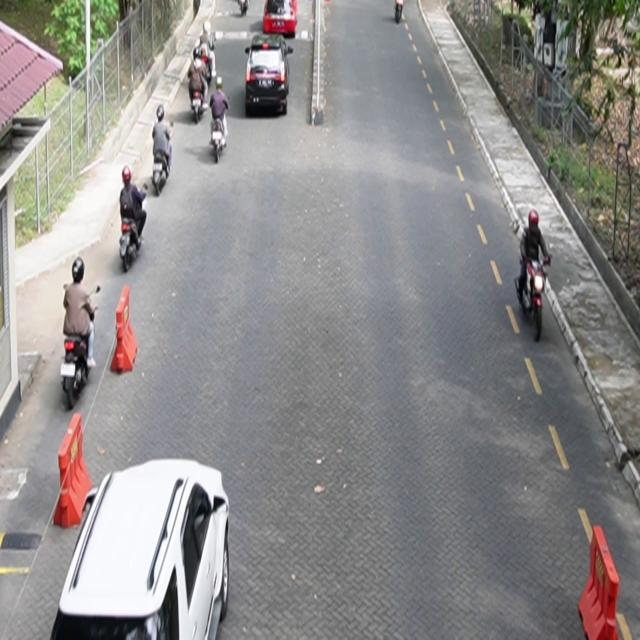car: (50, 459, 231, 640), (245, 33, 294, 117), (264, 1, 299, 39)
